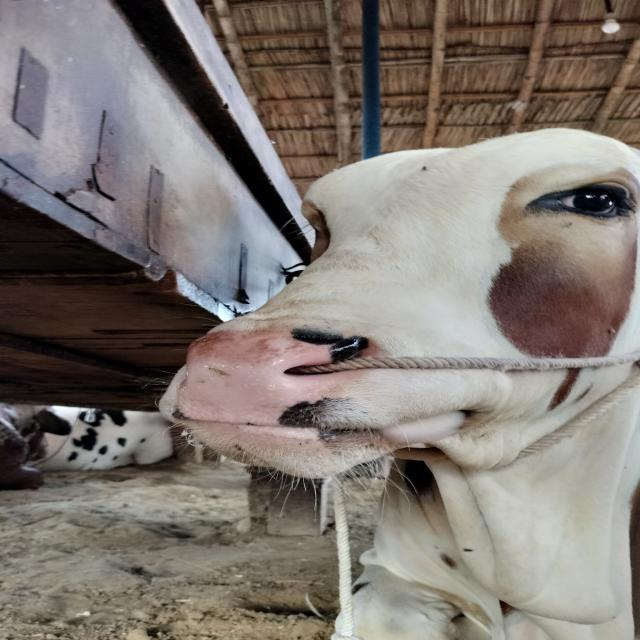muzzles: (171, 309, 379, 442)
